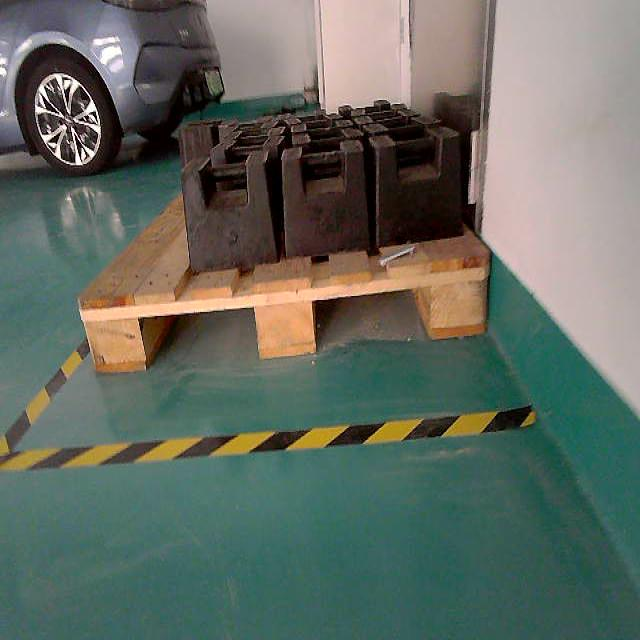euro: (79, 127, 490, 371)
